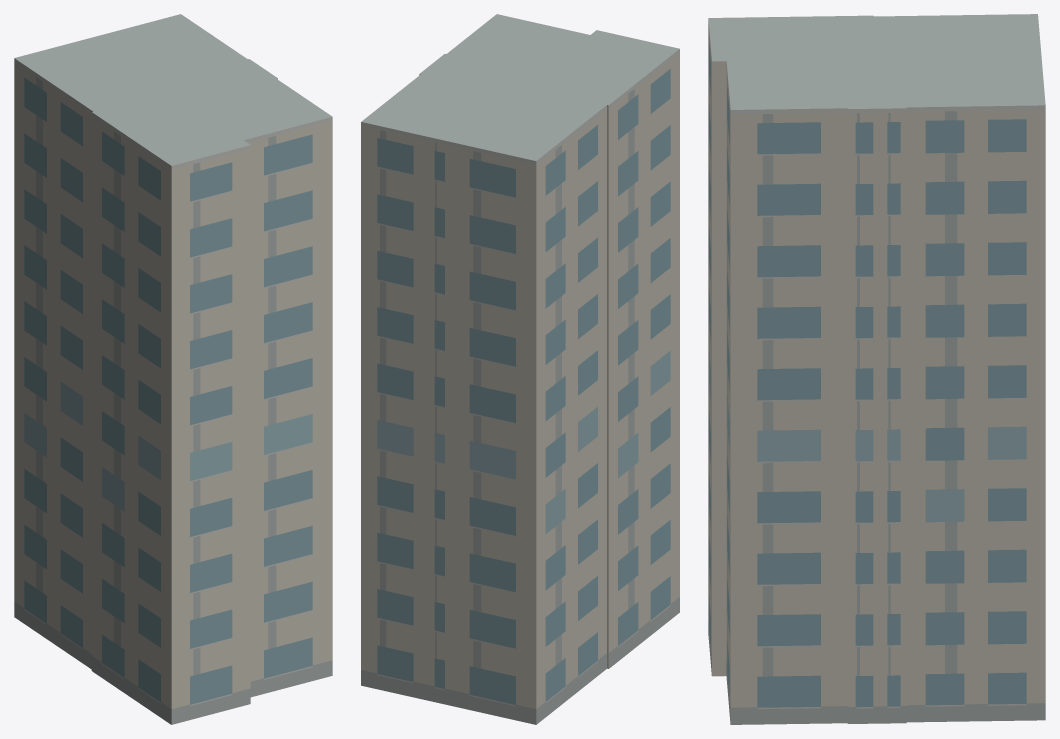
The model's file is survey-upis-32744882.glb.
The picture shows the model from 3 angles, left to right: view 1: azimuth 30°, elevation 25°; view 2: azimuth 150°, elevation 25°; view 3: azimuth 270°, elevation 25°; orthographic projection. The views are drawn at different scales.
Visible parts, largest first — view 1: survey-upis-32744882.tmp; view 2: survey-upis-32744882.tmp; view 3: survey-upis-32744882.tmp.
Part boxes in pixels (x1,y1,x2,y2): survey-upis-32744882.tmp: (14,14,332,724); survey-upis-32744882.tmp: (361,14,679,724); survey-upis-32744882.tmp: (708,14,1045,724).
Size of the model in its own units: 11.22 by 33.5 by 16.66.
